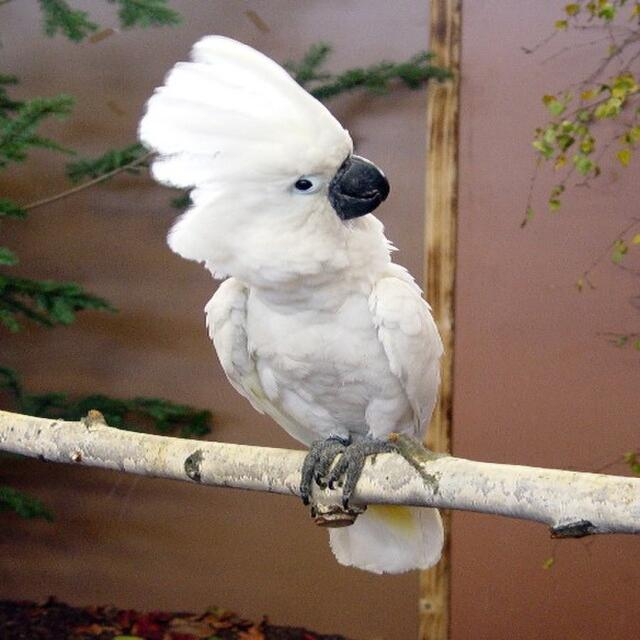Kakatua Putih: (89, 16, 570, 530)
